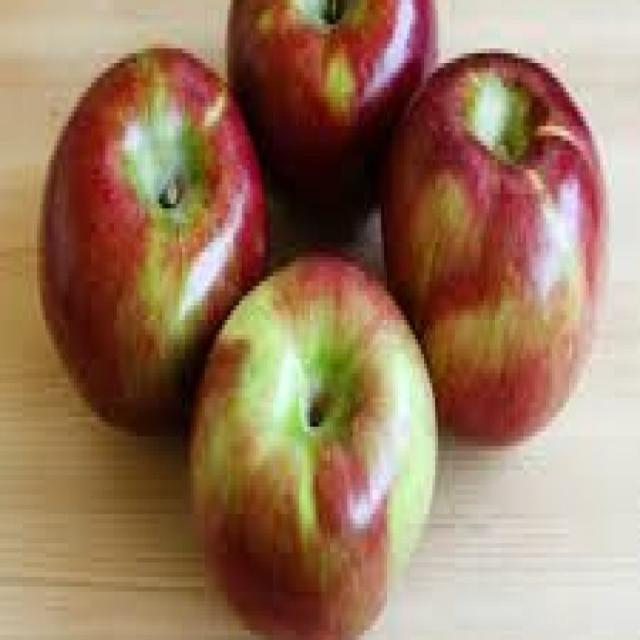Red Apple: (290, 10, 609, 472), (35, 34, 273, 450)
